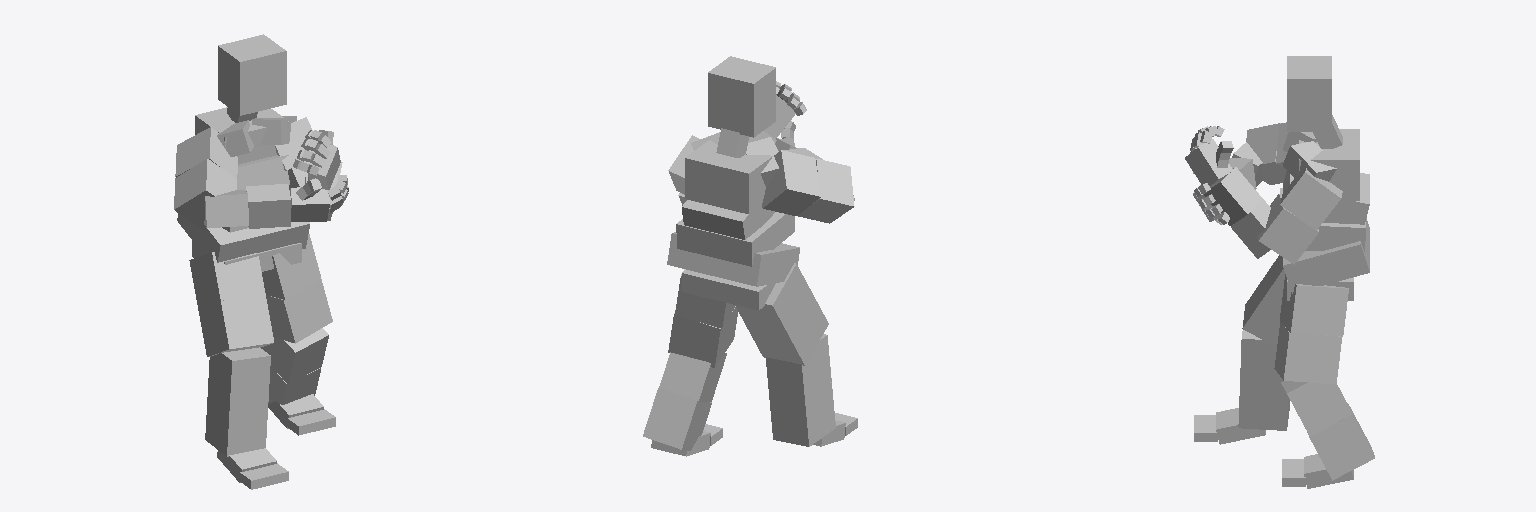
The model's file is Spicy OB.obj.
3 renders of one model, left to right at view 1: azimuth 30°, elevation 25°; view 2: azimuth 150°, elevation 25°; view 3: azimuth 270°, elevation 25°, orthographic.
Parts seen in each view (by area): view 1: HeavyShortHead, HeavyShortRLegThigh2, HeavyShortRLegCalf1, HeavyShortSpine1, HeavyShortRLegThigh1, HeavyShortRLegCalf2, HeavyShortLLegThigh2, HeavyShortRArmUpperarm2, HeavyShortLLegCalf1, HeavyShortLLegThigh1, HeavyShortRArmForearm2, HeavyShortRArmUpperarm1 (+14 smaller); view 2: HeavyShortHead, HeavyShortRibcage, HeavyShortSpine1, HeavyShortSpine2, HeavyShortRLegCalf2, HeavyShortLLegCalf2, HeavyShortRArmUpperarm1, HeavyShortRLegThigh1, HeavyShortRLegThigh2, HeavyShortRLegCalf1, HeavyShortLLegThigh2, HeavyShortLLegCalf1 (+9 smaller); view 3: HeavyShortHead, HeavyShortLLegThigh1, HeavyShortLLegThigh2, HeavyShortSpine1, HeavyShortLLegCalf2, HeavyShortLLegCalf1, HeavyShortLArmUpperarm1, HeavyShortRLegCalf2, HeavyShortLArmUpperarm2, HeavyShortRibcage, HeavyShortRLegThigh2, HeavyShortRLegCalf1 (+10 smaller).
Boxes of the visible parts, box(x1,y1,x2,y2) form: HeavyShortHead: box(218, 34, 286, 115); HeavyShortRLegThigh2: box(198, 294, 273, 356); HeavyShortRLegCalf1: box(208, 347, 270, 408); HeavyShortSpine1: box(177, 213, 309, 262); HeavyShortRLegThigh1: box(189, 252, 265, 308); HeavyShortRLegCalf2: box(205, 393, 267, 456); HeavyShortLLegThigh2: box(266, 278, 332, 343); HeavyShortRArmUpperarm2: box(174, 158, 236, 230); HeavyShortLLegCalf1: box(261, 328, 328, 384); HeavyShortLLegThigh1: box(262, 234, 320, 299); HeavyShortRArmForearm2: box(246, 184, 290, 228); HeavyShortRArmUpperarm1: box(175, 127, 237, 178); HeavyShortHead: box(708, 56, 775, 137); HeavyShortRibcage: box(685, 140, 772, 213); HeavyShortSpine1: box(667, 232, 799, 286); HeavyShortSpine2: box(676, 212, 794, 266); HeavyShortRLegCalf2: box(769, 382, 835, 446); HeavyShortLLegCalf2: box(643, 388, 711, 450); HeavyShortRArmUpperarm1: box(762, 150, 820, 215); HeavyShortRLegThigh1: box(735, 263, 812, 335); HeavyShortRLegThigh2: box(747, 295, 828, 365); HeavyShortRLegCalf1: box(766, 334, 831, 399); HeavyShortLLegThigh2: box(668, 306, 737, 367); HeavyShortLLegCalf1: box(659, 352, 726, 401); HeavyShortHead: box(1287, 56, 1331, 131); HeavyShortLLegThigh1: box(1280, 274, 1348, 336); HeavyShortLLegThigh2: box(1274, 322, 1341, 384); HeavyShortSpine1: box(1283, 218, 1369, 293); HeavyShortLLegCalf2: box(1307, 404, 1374, 480); HeavyShortLLegCalf1: box(1281, 381, 1352, 436); HeavyShortLArmUpperarm1: box(1280, 168, 1342, 230); HeavyShortRLegCalf2: box(1238, 384, 1289, 430); HeavyShortLArmUpperarm2: box(1257, 194, 1318, 264); HeavyShortRibcage: box(1299, 129, 1359, 200); HeavyShortRLegThigh2: box(1242, 269, 1281, 346); HeavyShortRLegCalf1: box(1240, 330, 1282, 385).
Size of the model in its own units: 37.38 by 82.19 by 36.7.